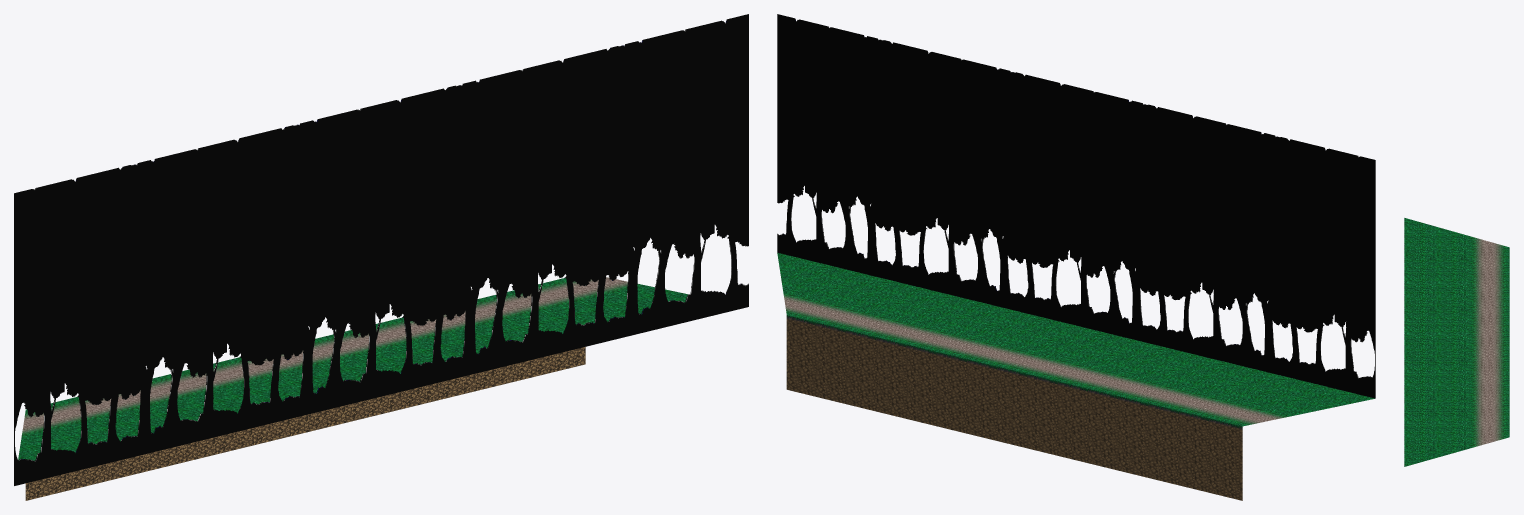
The model's file is Area2_Room2.fbx.
3 views of the same model, side by side, from view 1: azimuth 30°, elevation 25°; view 2: azimuth 150°, elevation 25°; view 3: azimuth 270°, elevation 25° (orthographic). The views are drawn at different scales.
Parts seen in each view (by area): view 1: pCube82; view 2: pCube82; view 3: pCube82.
Boxes of the visible parts, <box> form: pCube82: <box>14,14,748,500</box>; pCube82: <box>777,14,1375,500</box>; pCube82: <box>1404,218,1509,466</box>.
Bounding box in the file's own units: 84 × 42 × 15.
